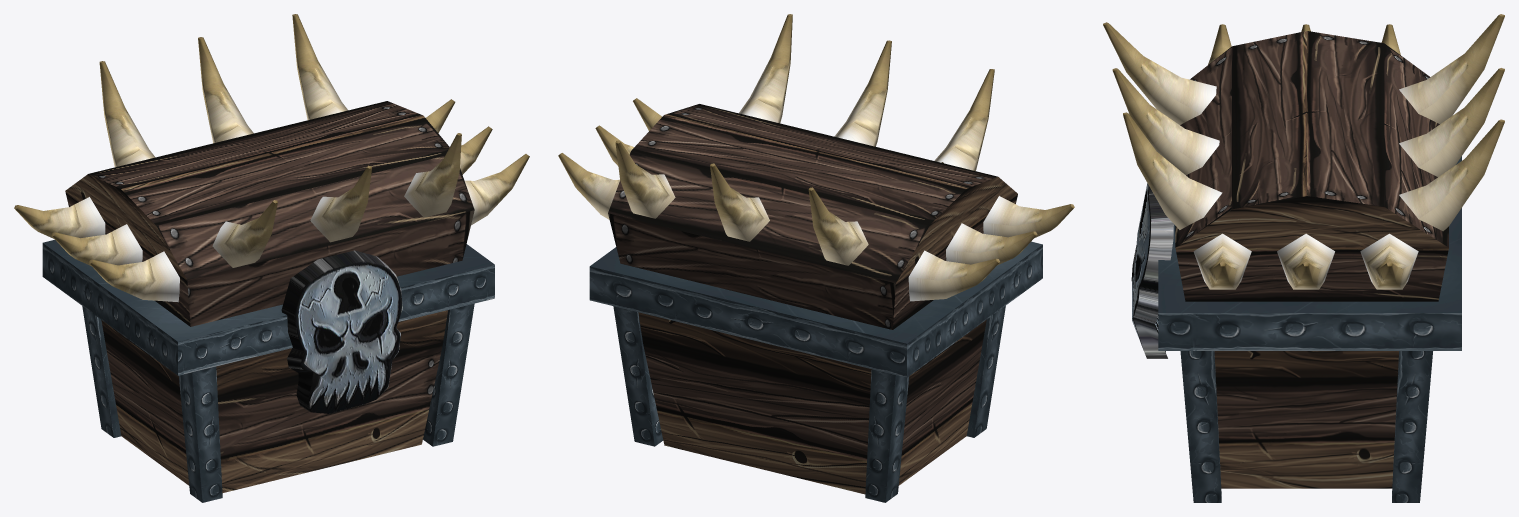
File: Orc_Chest.FBX
3 renders of one model, left to right at view 1: azimuth 30°, elevation 25°; view 2: azimuth 150°, elevation 25°; view 3: azimuth 270°, elevation 25°, orthographic. The views are drawn at different scales.
Parts seen in each view (by area): view 1: chest_wood001, metal_chest001, fangs_chest002, keyhole_chest001; view 2: chest_wood001, metal_chest001, fangs_chest002; view 3: chest_wood001, fangs_chest002, metal_chest001, keyhole_chest001.
Part boxes in pixels (left/top/right/bottom): chest_wood001: left=65, top=101, right=474, bottom=493; metal_chest001: left=42, top=239, right=494, bottom=502; fangs_chest002: left=14, top=14, right=529, bottom=302; keyhole_chest001: left=281, top=250, right=402, bottom=413; chest_wood001: left=608, top=104, right=1017, bottom=494; metal_chest001: left=589, top=241, right=1042, bottom=502; fangs_chest002: left=558, top=14, right=1074, bottom=301; chest_wood001: left=1175, top=31, right=1448, bottom=488; fangs_chest002: left=1103, top=14, right=1504, bottom=289; metal_chest001: left=1158, top=156, right=1461, bottom=502; keyhole_chest001: left=1131, top=183, right=1173, bottom=358.
Size of the model in its own units: 1273 by 929 by 899.
